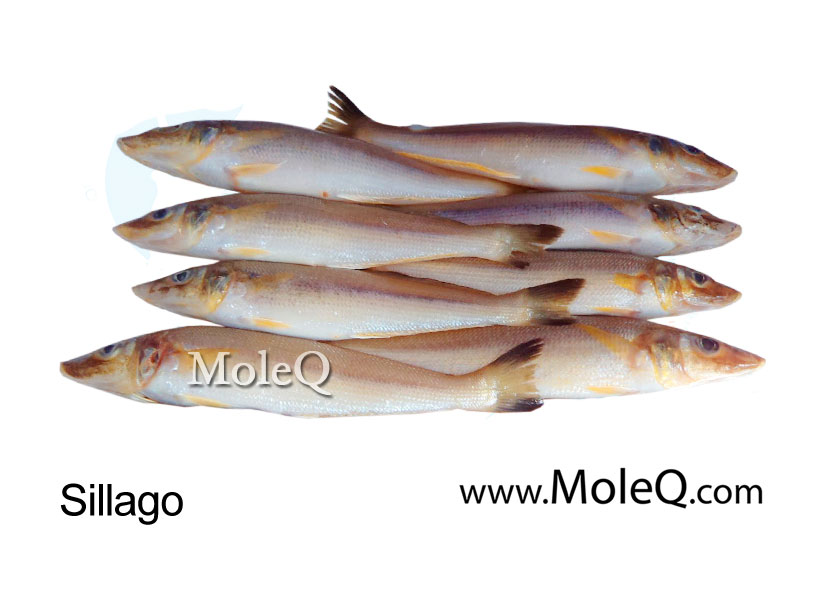kiss: (59, 317, 552, 423), (108, 181, 558, 275), (112, 106, 511, 202), (127, 254, 585, 317)
